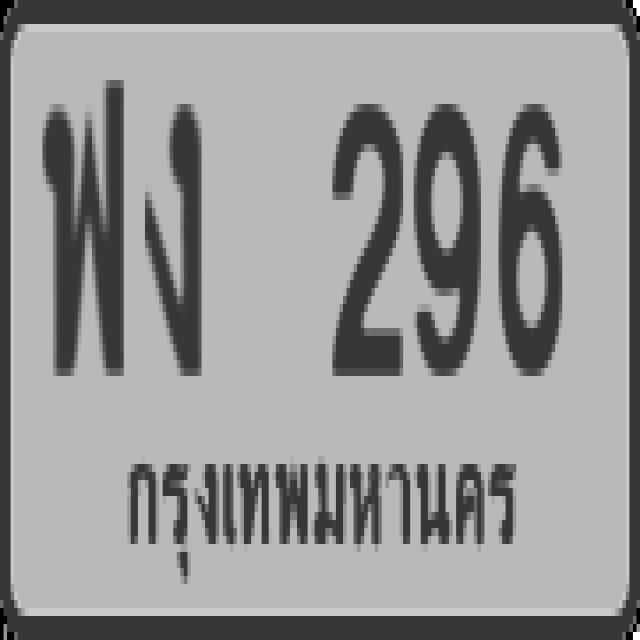16NgorNgu: (133, 71, 220, 421)
2: (320, 75, 410, 404)
40ForFun: (35, 49, 135, 418)
6: (486, 62, 578, 426)
9: (406, 88, 489, 418)
Bangkok: (94, 418, 532, 602)
